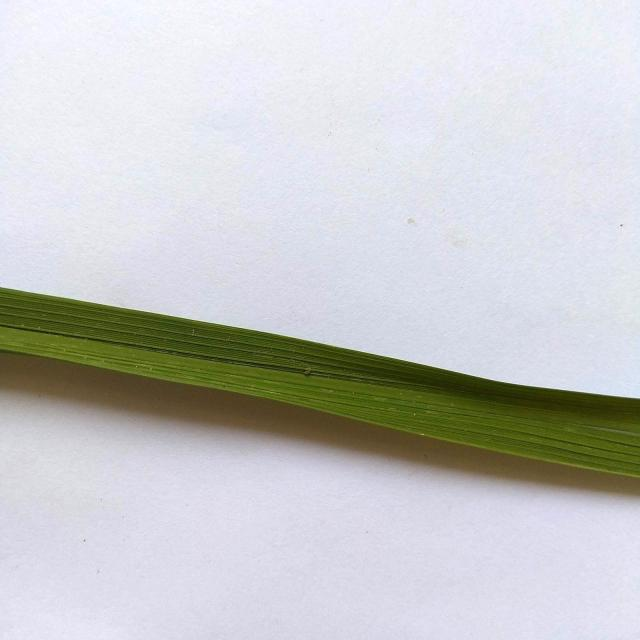healthy: (0, 282, 640, 533)
